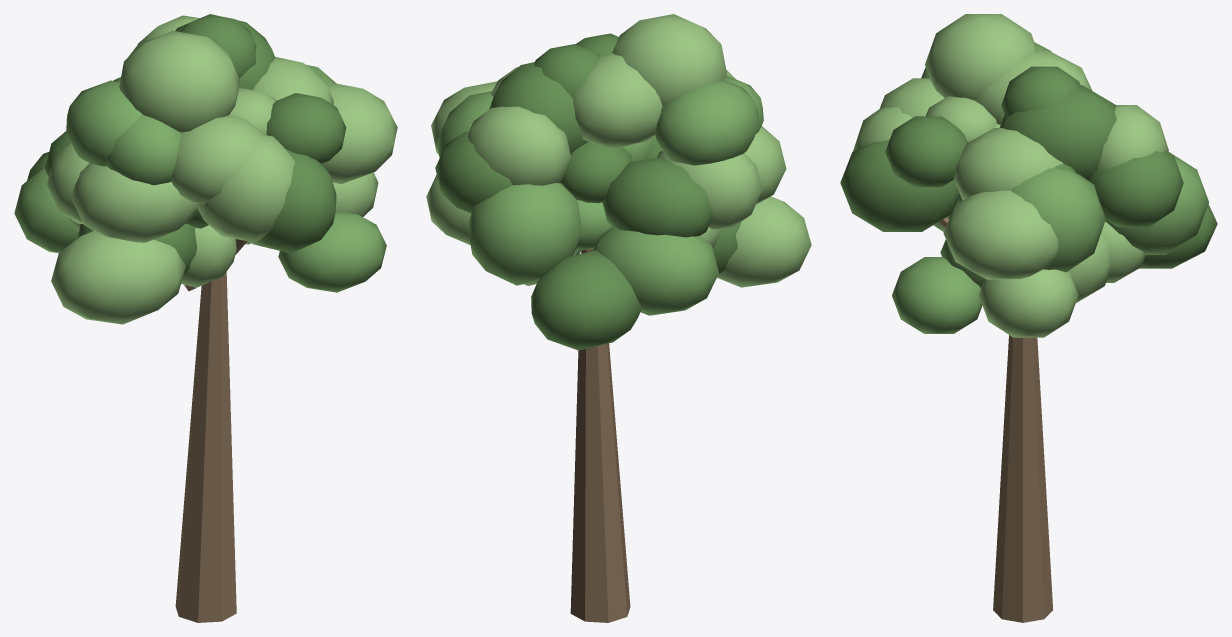
The model's file is tree.glb.
3 views of the same model, side by side, from view 1: azimuth 30°, elevation 25°; view 2: azimuth 150°, elevation 25°; view 3: azimuth 270°, elevation 25° (orthographic). The views are drawn at different scales.
Parts seen in each view (by area): view 1: Tree3; view 2: Tree3; view 3: Tree3.
Boxes of the visible parts, <box> form: Tree3: <box>14,14,397,622</box>; Tree3: <box>426,14,811,622</box>; Tree3: <box>840,14,1217,622</box>.
Size of the model in its own units: 3.14 by 5.16 by 3.09.
